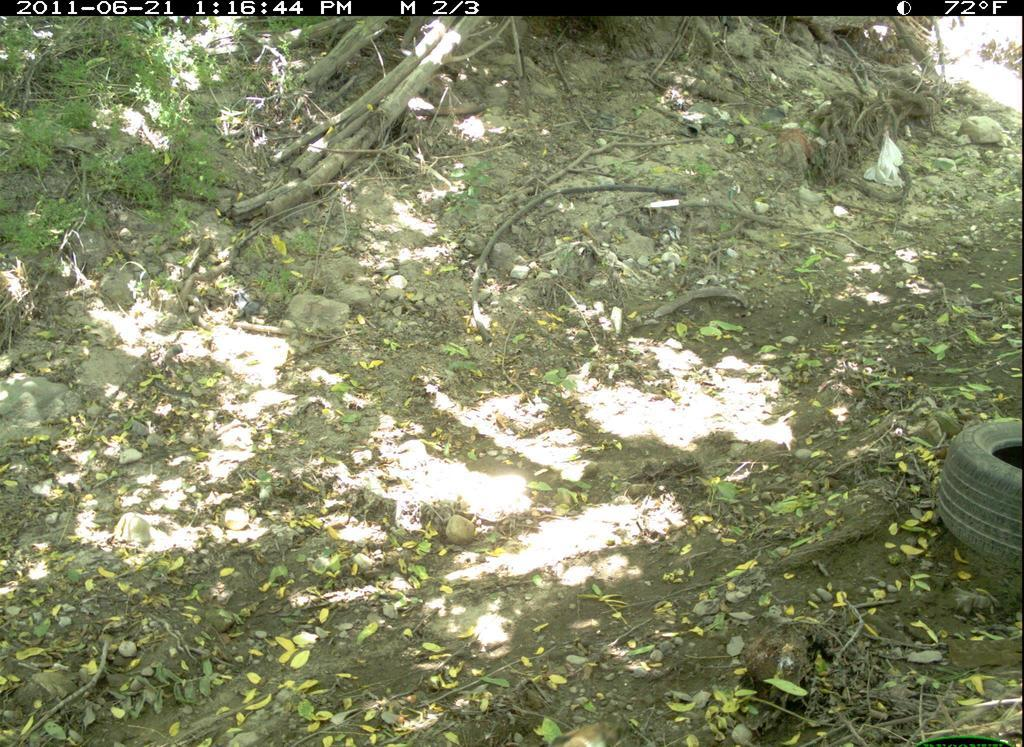cat: (533, 716, 633, 747)
